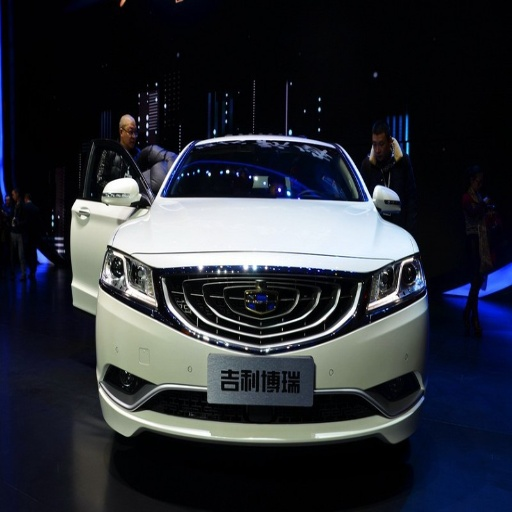front_bumper: (98, 254, 428, 443)
front_right_light: (101, 245, 157, 310)
hood: (119, 197, 413, 259)
